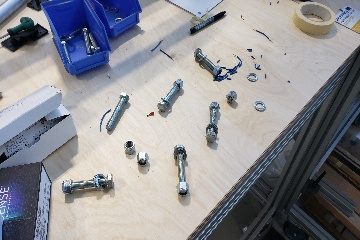Bolt: (105, 90, 131, 135)
FalseAssembly: (190, 45, 224, 82), (154, 77, 184, 114)
FinishedAssembly: (58, 169, 119, 198), (172, 141, 191, 197), (203, 98, 220, 146)
Nut: (122, 138, 138, 157), (136, 153, 151, 166), (224, 91, 239, 104)
Washer: (244, 72, 261, 82), (253, 101, 268, 111)
